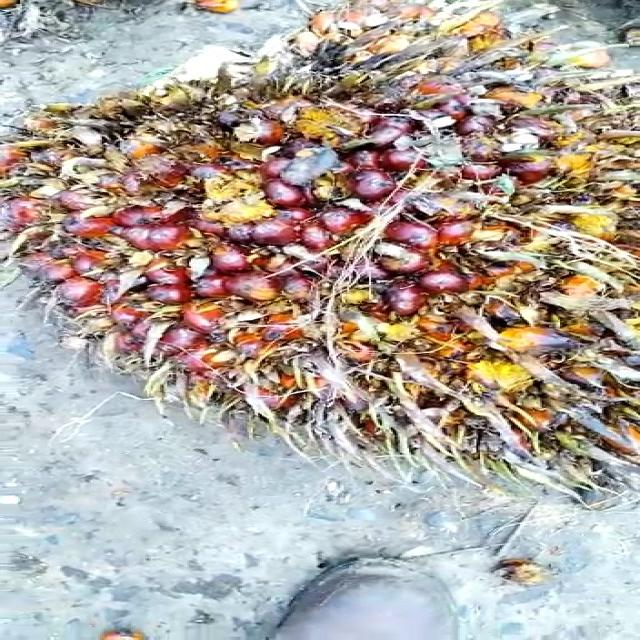palm oil: (5, 1, 640, 503)
